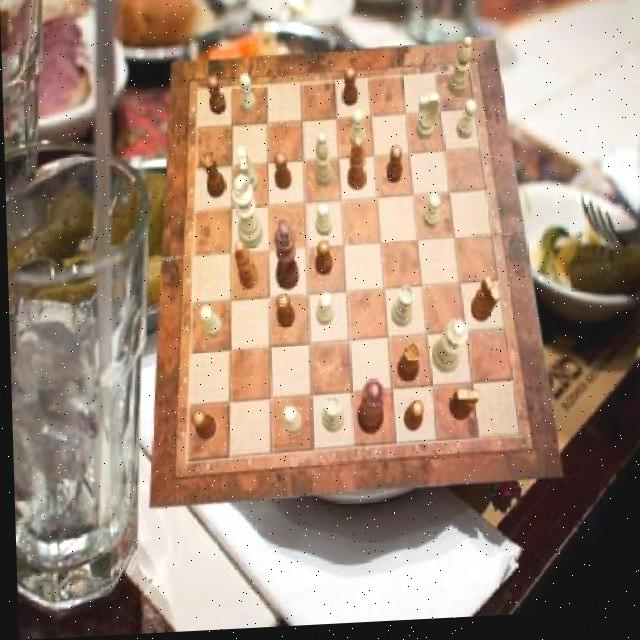bishop: (233, 242, 258, 292), (345, 141, 364, 196)
black-bishop: (273, 222, 298, 294)
black-king: (469, 281, 500, 328), (447, 393, 478, 427)
black-knight: (188, 412, 213, 444), (207, 79, 225, 118), (401, 403, 422, 436), (273, 155, 291, 193), (384, 149, 402, 187), (314, 243, 332, 279), (275, 296, 293, 331), (341, 72, 357, 111)
black-pawn: (356, 383, 384, 440)
black-queen: (201, 153, 225, 201), (394, 347, 419, 386)
black-rook: (446, 41, 473, 102), (314, 136, 333, 191)
white-bishop: (230, 176, 262, 252)
white-king: (415, 98, 439, 145), (238, 148, 259, 197)
white-knight: (455, 105, 477, 146), (198, 308, 221, 341), (349, 113, 366, 153), (420, 198, 439, 233), (239, 76, 255, 116), (313, 296, 332, 329), (313, 205, 330, 240), (279, 408, 299, 437)
white-pawn: (429, 323, 468, 379)
white-queen: (390, 291, 414, 332), (319, 397, 342, 436)
